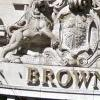Statue: (5, 4, 98, 68)
